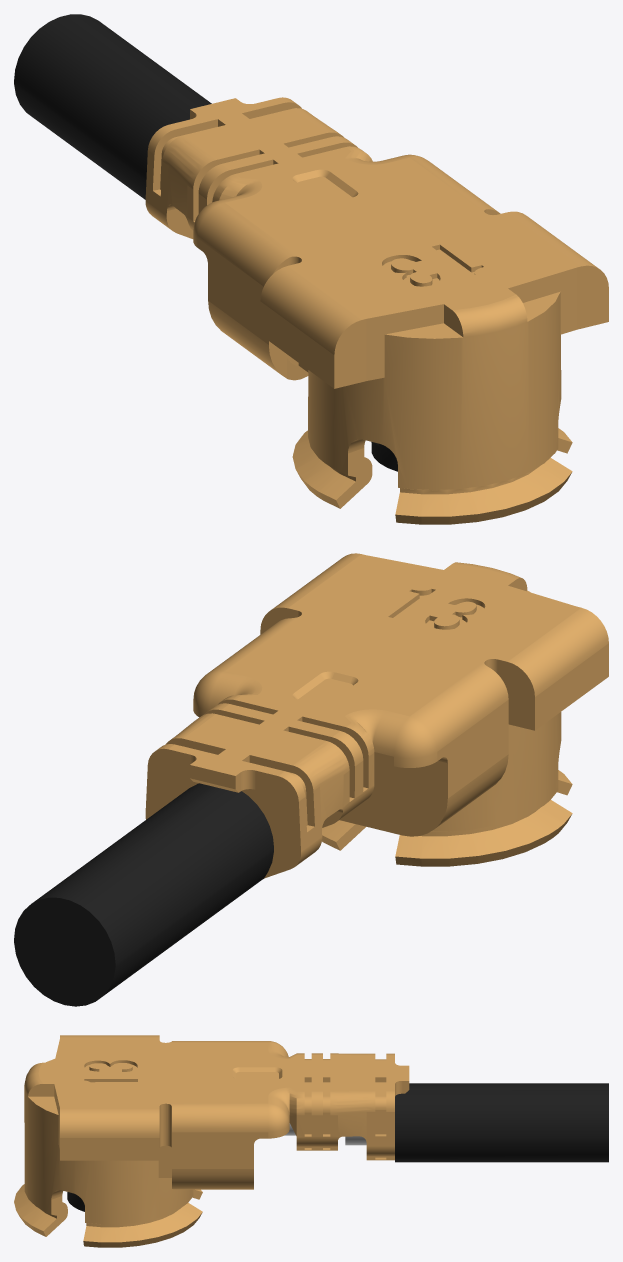
File: ipex_female.glb
3 renders of one model, top to bottom at view 1: azimuth 30°, elevation 25°; view 2: azimuth 150°, elevation 25°; view 3: azimuth 270°, elevation 25°, orthographic. The views are drawn at different scales.
Parts seen in each view (by area): view 1: ipex_female; view 2: ipex_female; view 3: ipex_female.
Part boxes in pixels (bbox=[...]): ipex_female: bbox=[14, 14, 608, 524]; ipex_female: bbox=[14, 553, 608, 1006]; ipex_female: bbox=[14, 1035, 608, 1247].
Size of the model in its own units: 0.3 by 0.21 by 0.8345.
